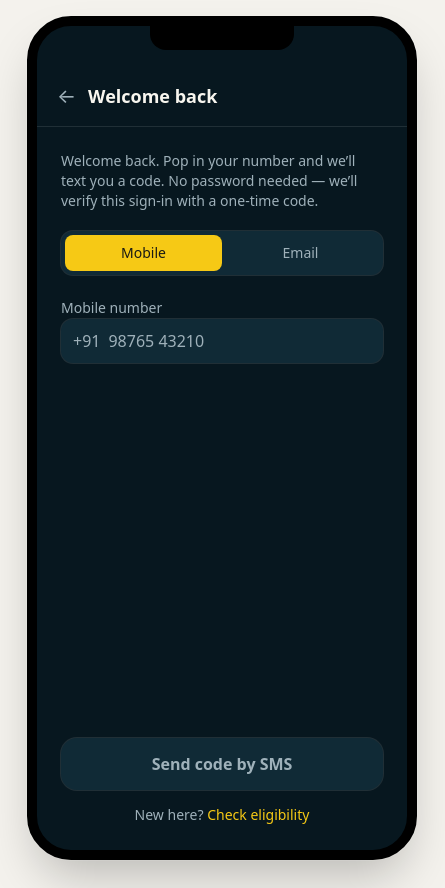
it: SignIn › demo mode: auto-fills the code and states nothing was sent (no false delivery claim)
Type "9898989898" into the field with placeholder "98765 43210" at (240, 341), box [108,329,371,353]
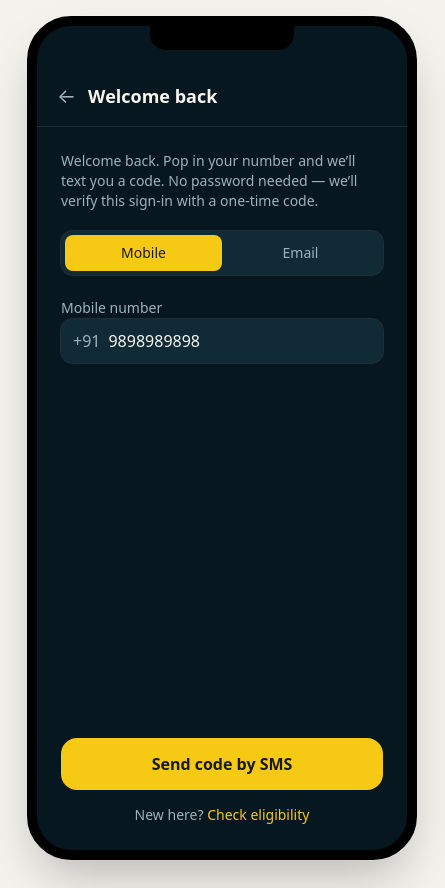
Click the button "Send code by SMS" at (222, 764), box [61,738,383,790]
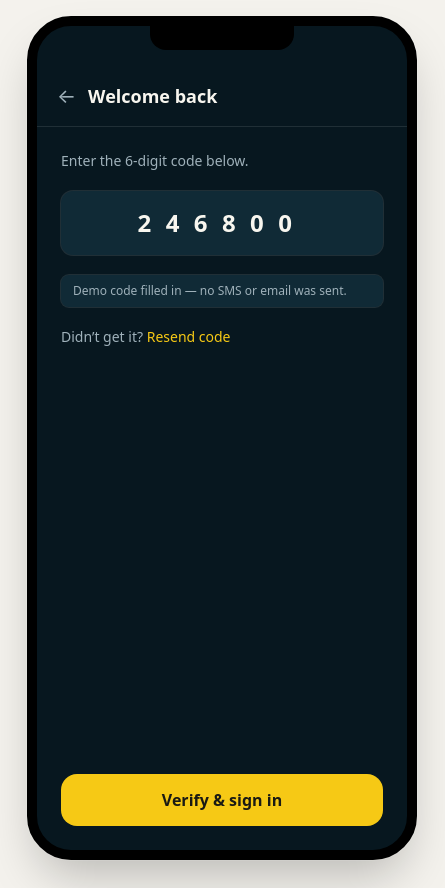
Now the text "Demo code filled in — no SMS or email was sent." is shown, box [61,275,383,307]
Now the field named "6-digit code" holds "246800", box [61,191,383,255]
